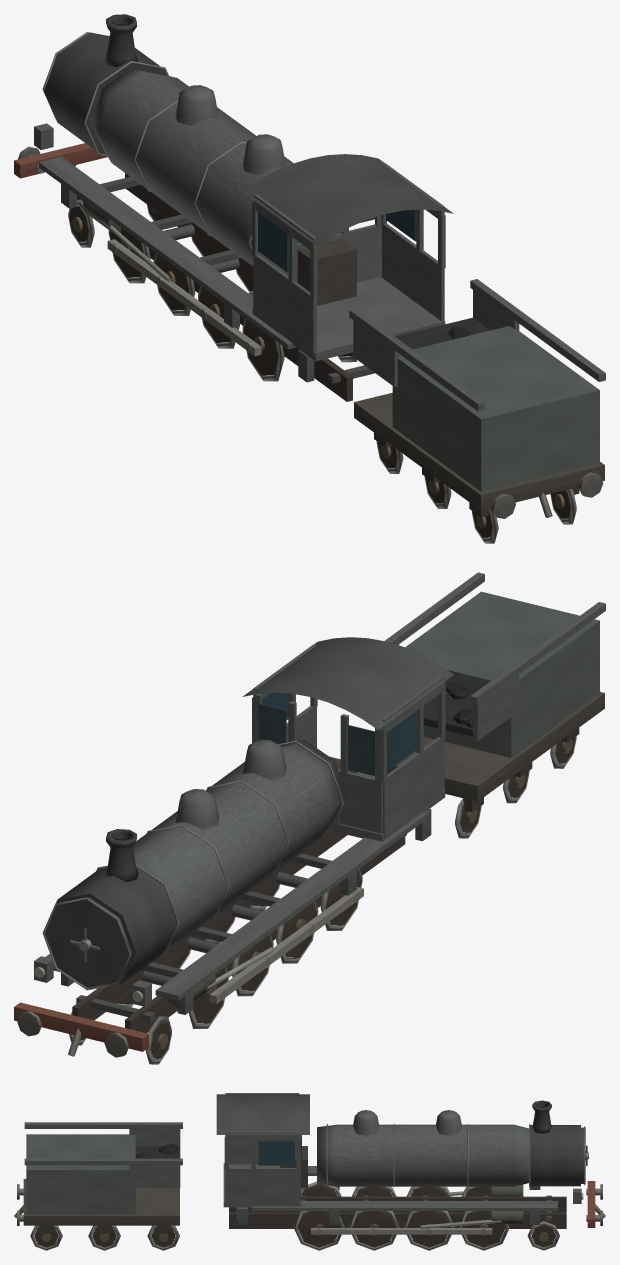
File: m01_locomotive_freight_lod2.glb
3 views of the same model, one above another, from view 1: azimuth 30°, elevation 25°; view 2: azimuth 150°, elevation 25°; view 3: azimuth 270°, elevation 25° (orthographic). The views are drawn at different scales.
Visible parts, largest first — view 1: paint_and_soot, exposed_metal, glazed_windows; view 2: paint_and_soot, exposed_metal, glazed_windows; view 3: paint_and_soot, exposed_metal, glazed_windows.
Part boxes in pixels (x1,y1,x2,y2): paint_and_soot: (14,14,605,537); exposed_metal: (28,32,576,543); glazed_windows: (258,210,416,272); paint_and_soot: (14,572,605,1058); exposed_metal: (42,736,576,1064); glazed_windows: (34,692,416,1002); paint_and_soot: (17,1093,602,1247); exposed_metal: (14,1126,605,1250); glazed_windows: (258,1135,583,1199).
Bounding box in the file's own units: 2.82 × 4.22 × 16.82.
Materials: 3 (2 with a texture image).
